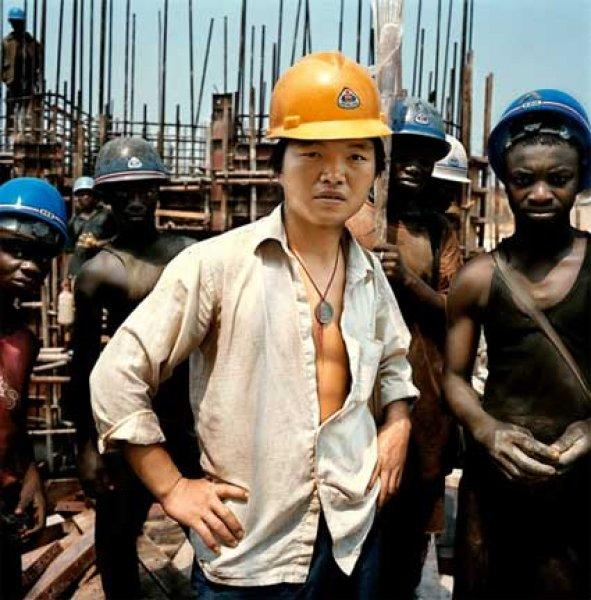helmet: (266, 53, 394, 140), (488, 95, 591, 175), (1, 179, 67, 235), (96, 137, 166, 186), (392, 99, 451, 144), (434, 137, 474, 182), (8, 8, 31, 26), (75, 177, 95, 191)
